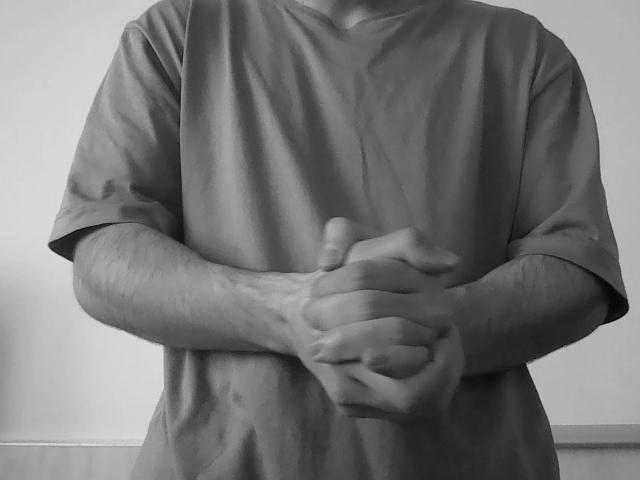friend: (273, 218, 474, 426)
